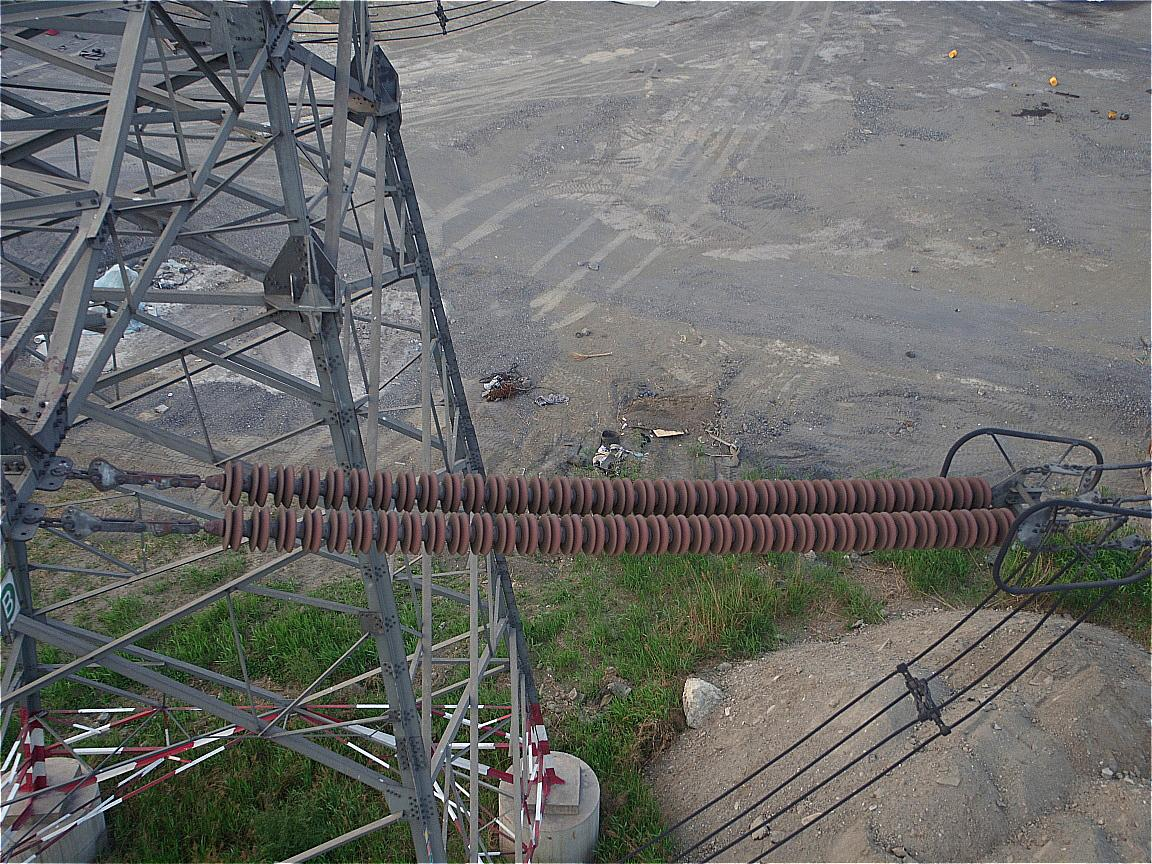insultor2: (216, 461, 1019, 555)
